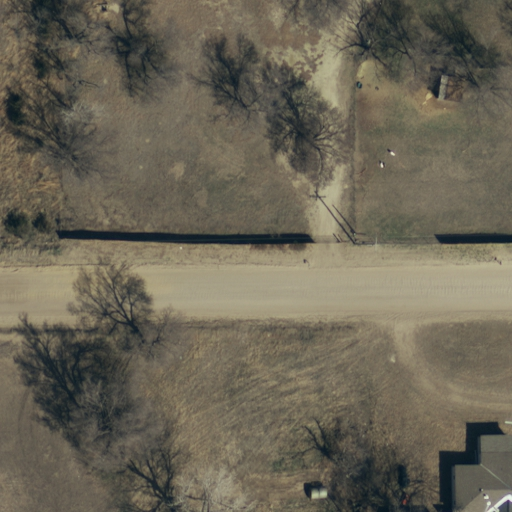DT: (344, 225, 368, 249)
